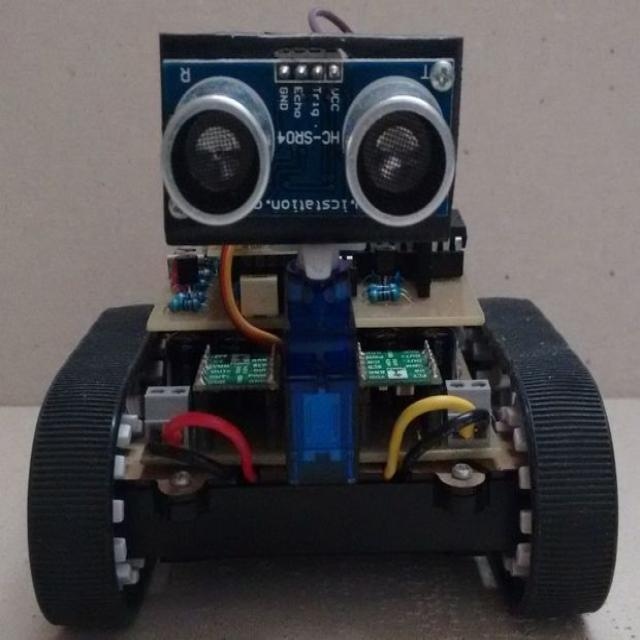Ultrasonic Sensor: (157, 45, 464, 255)
